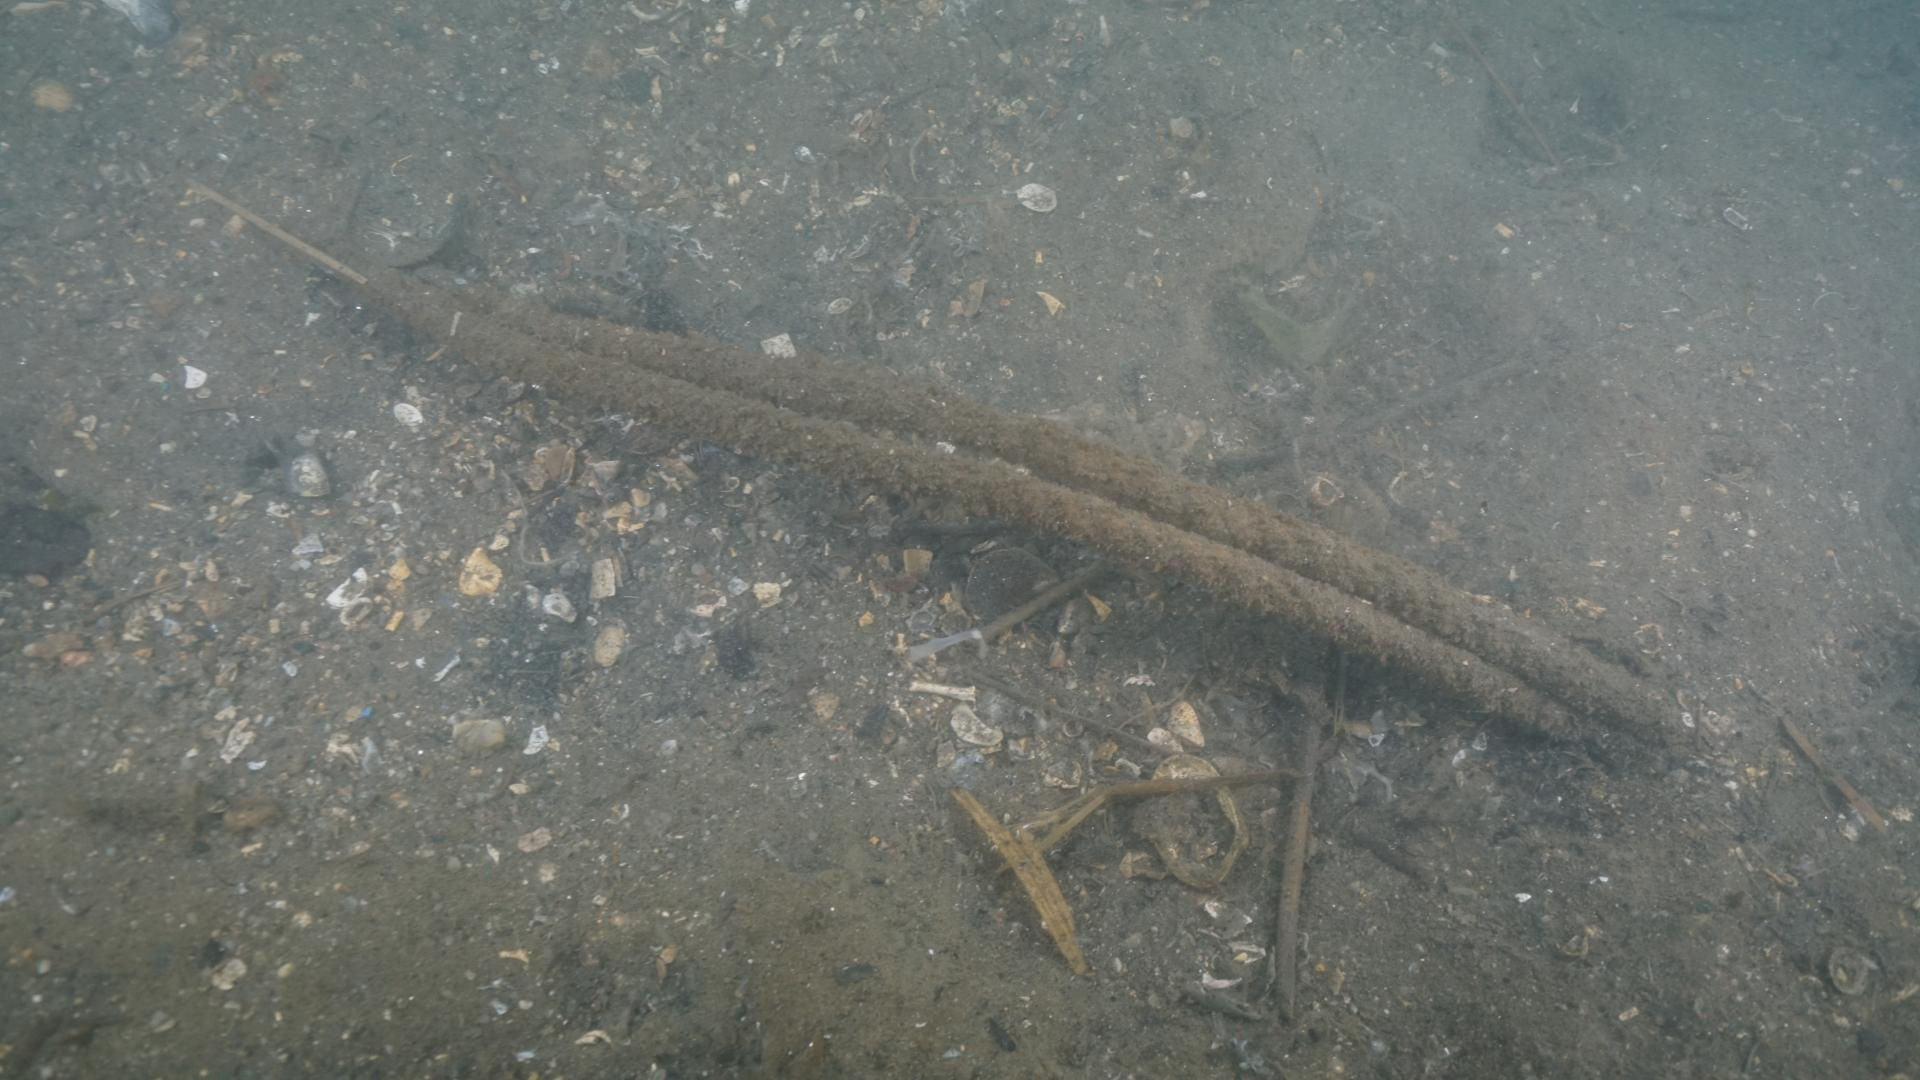rope: (371, 270, 1689, 762)
